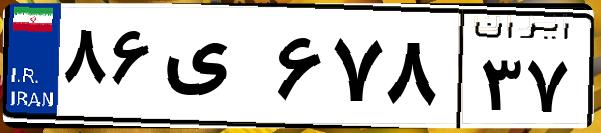3: (475, 38, 525, 113)
6: (270, 28, 330, 110), (110, 28, 158, 98)
7: (330, 28, 385, 110), (525, 38, 570, 115)
8: (385, 28, 445, 110), (57, 26, 110, 100)
ی: (158, 20, 270, 120)
